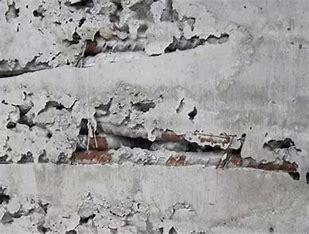Exposed reinforcement: (69, 149, 299, 173), (95, 120, 231, 144), (82, 36, 228, 57), (75, 133, 136, 149), (148, 140, 206, 153)
Spalling: (1, 83, 309, 184), (1, 1, 230, 79), (1, 184, 207, 234)
